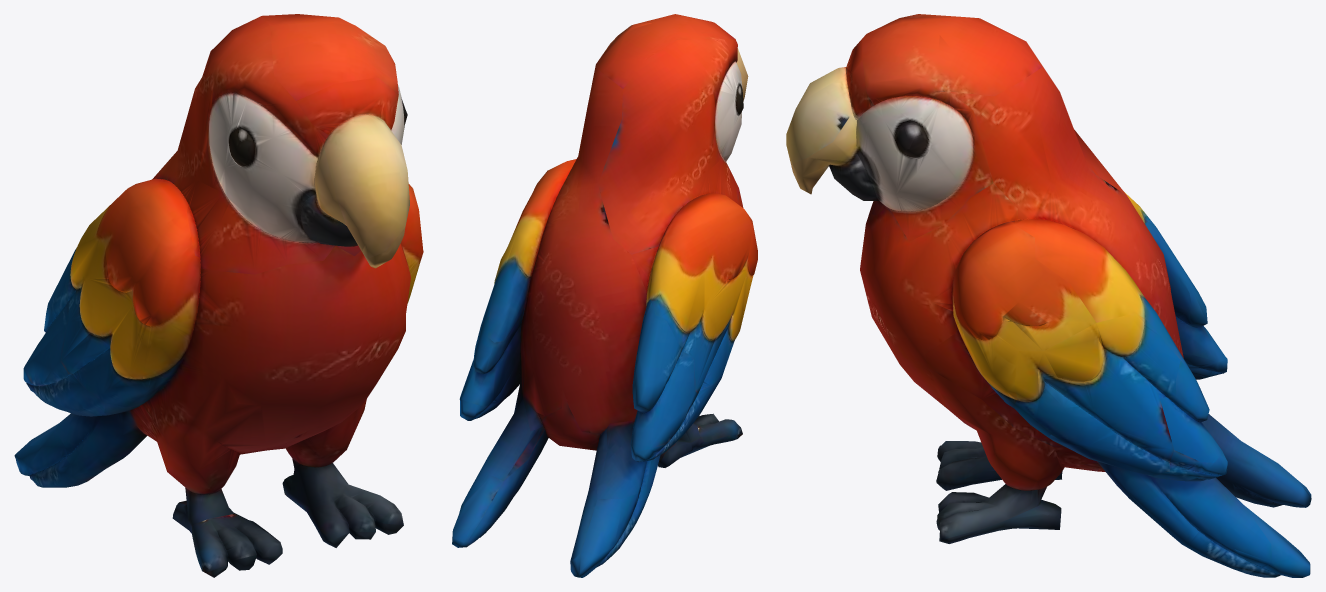
The model's file is parrot_pbr.glb.
3 renders of one model, left to right at view 1: azimuth 30°, elevation 25°; view 2: azimuth 150°, elevation 25°; view 3: azimuth 270°, elevation 25°, orthographic. The views are drawn at different scales.
Visible parts, largest first — view 1: model.013; view 2: model.013; view 3: model.013.
Boxes of the visible parts, x1,y1,x2,y2 form: model.013: [14, 14, 423, 577]; model.013: [452, 14, 757, 577]; model.013: [786, 14, 1311, 577].
Size of the model in its own units: 0.6789 by 1.32 by 1.22.
1 material, 1 textured.
